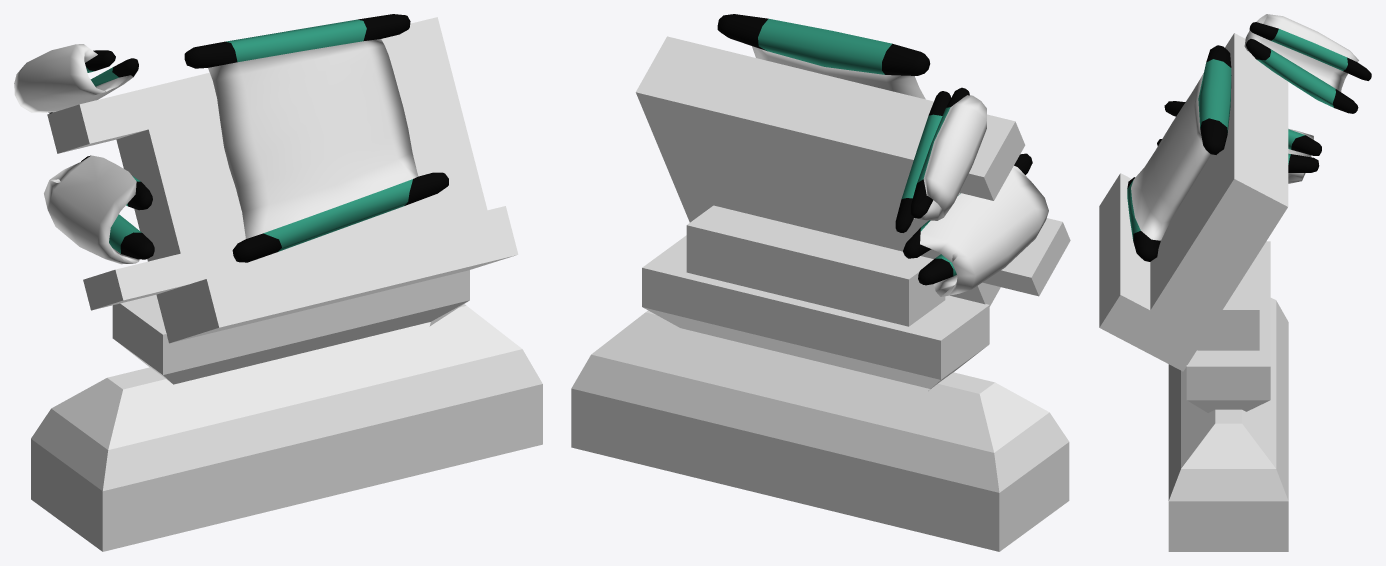
File: Store-G3.fbx
3 renders of one model, left to right at view 1: azimuth 30°, elevation 25°; view 2: azimuth 150°, elevation 25°; view 3: azimuth 270°, elevation 25°, orthographic. The views are drawn at different scales.
Parts seen in each view (by area): view 1: ScrollStand, Scroll, Scroll.004, Scroll.005; view 2: ScrollStand, Scroll.004, Scroll, Scroll.005; view 3: ScrollStand, Scroll, Scroll.005, Scroll.004.
Part boxes in pixels (x1,y1,x2,y2): ScrollStand: (31, 17, 542, 551); Scroll: (184, 14, 448, 262); Scroll.004: (44, 155, 154, 264); Scroll.005: (14, 44, 138, 113); ScrollStand: (571, 36, 1070, 551); Scroll.004: (903, 153, 1048, 296); Scroll: (717, 14, 930, 99); Scroll.005: (895, 87, 986, 232); ScrollStand: (1099, 33, 1288, 551); Scroll: (1127, 45, 1231, 261); Scroll.005: (1244, 14, 1371, 113); Scroll.004: (1157, 101, 1321, 183).
Size of the model in its own units: 707 by 454 by 694.
